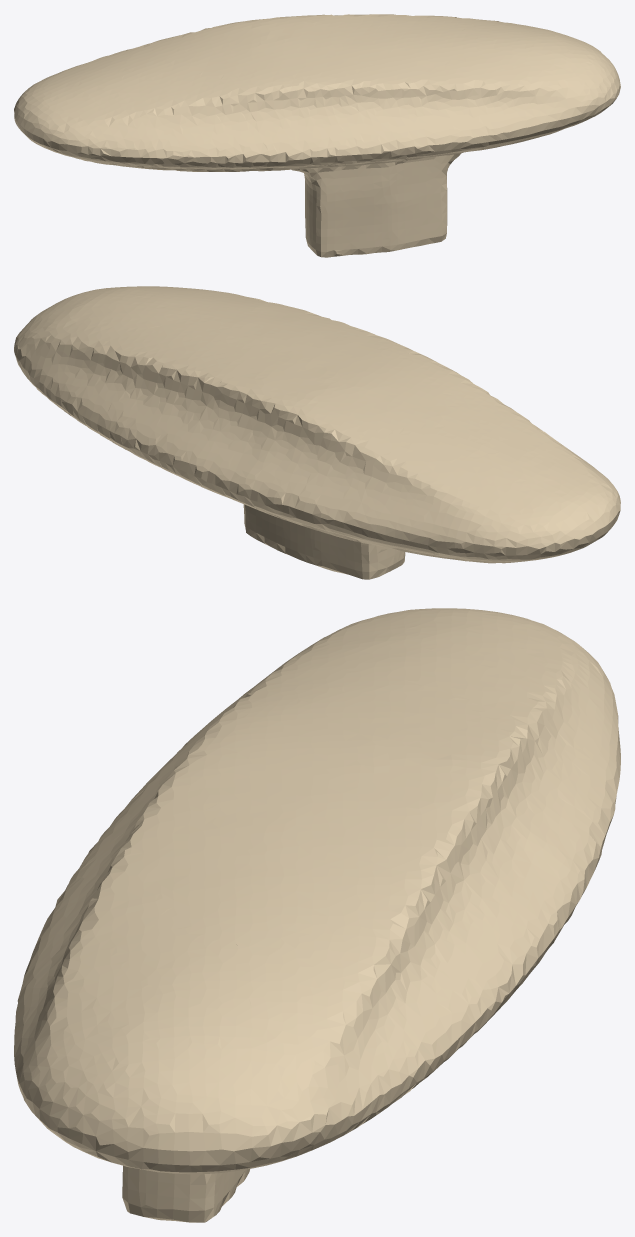
The model's file is skulptur-11.glb.
The picture shows the model from 3 angles, top to bottom: view 1: azimuth 30°, elevation 25°; view 2: azimuth 150°, elevation 25°; view 3: azimuth 270°, elevation 25°; orthographic projection. The views are drawn at different scales.
Parts seen in each view (by area): view 1: skulptur-11; view 2: skulptur-11; view 3: skulptur-11.
Part boxes in pixels (bbox=[...]): skulptur-11: bbox=[14, 14, 620, 257]; skulptur-11: bbox=[14, 286, 620, 579]; skulptur-11: bbox=[14, 608, 620, 1222].
Size of the model in its own units: 0.9971 by 0.3347 by 0.5113.
